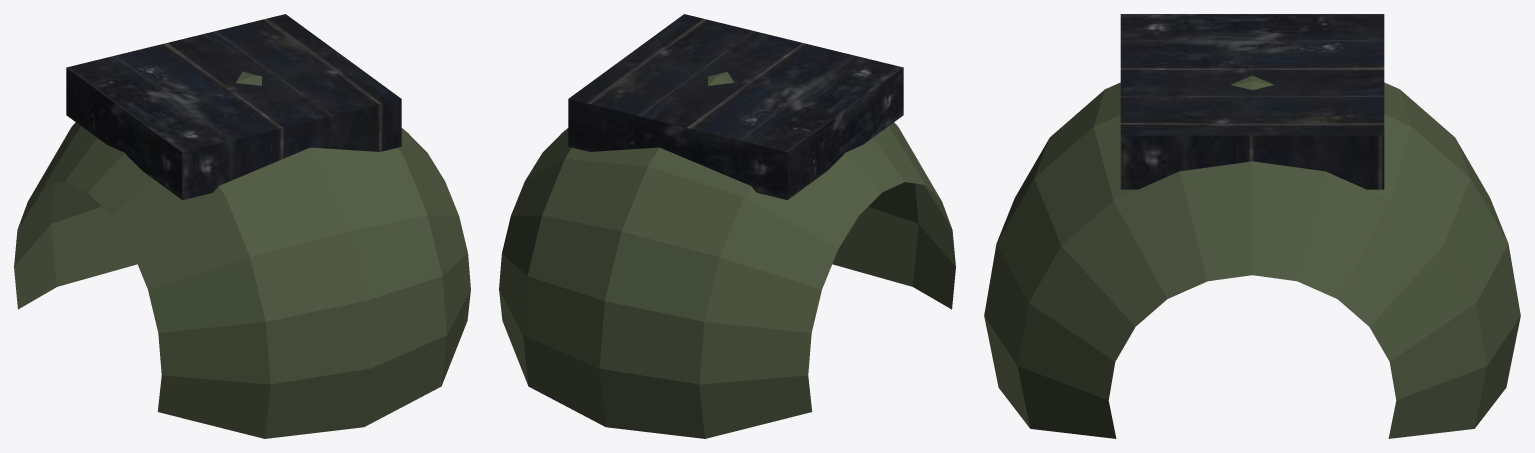
The model's file is eq_present_1_shoulder.glb.
3 renders of one model, left to right at view 1: azimuth 30°, elevation 25°; view 2: azimuth 150°, elevation 25°; view 3: azimuth 270°, elevation 25°, orthographic. The views are drawn at different scales.
Parts seen in each view (by area): view 1: eq_present_1_shoulder; view 2: eq_present_1_shoulder; view 3: eq_present_1_shoulder.
Part boxes in pixels (left/top/right/bottom): eq_present_1_shoulder: left=14, top=14, right=470, bottom=438; eq_present_1_shoulder: left=499, top=14, right=955, bottom=438; eq_present_1_shoulder: left=984, top=14, right=1520, bottom=438.
Size of the model in its own units: 0.175 by 0.1408 by 0.224.
2 materials, 2 textured.
